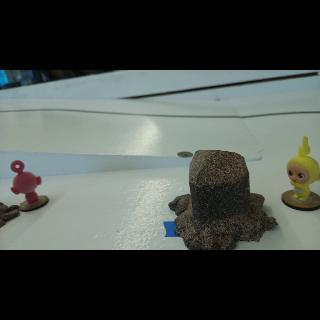teletubby: (287, 136, 320, 201), (10, 160, 41, 204)
